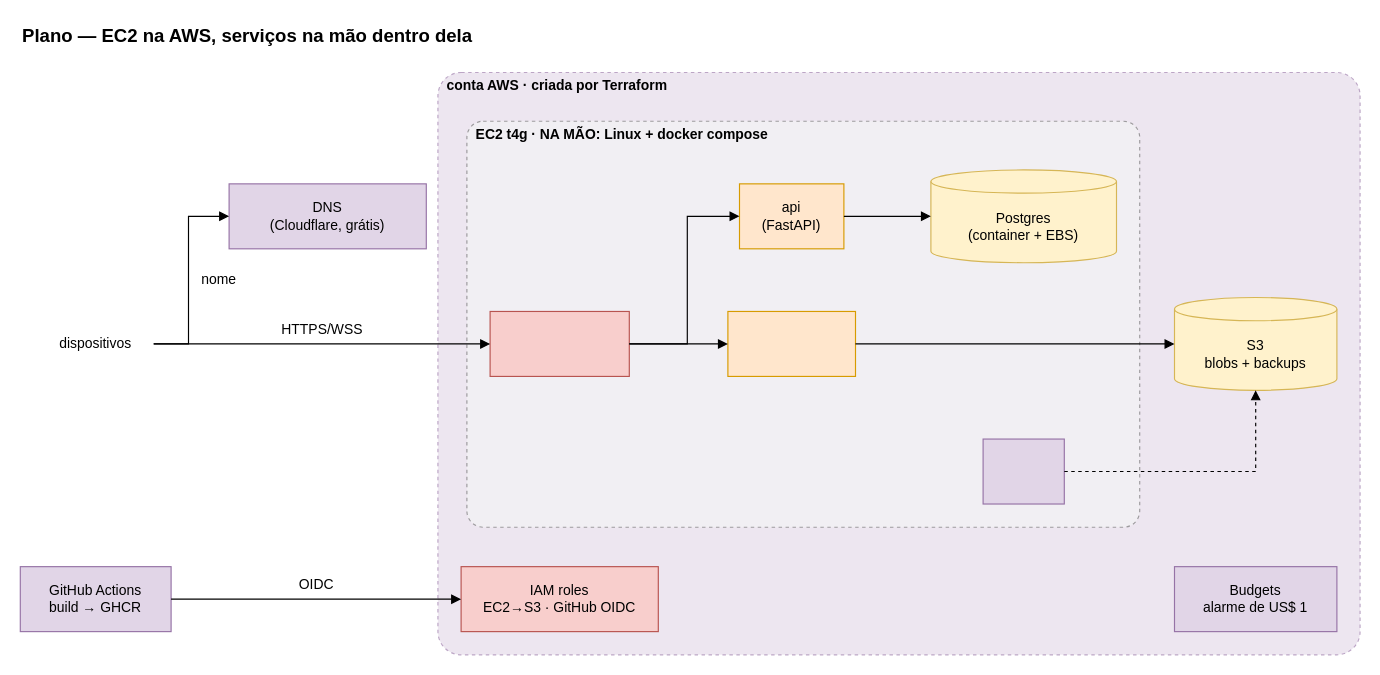
The diagram is 1380 pixels wide and 675 high, and some of its shapes have lost their labels. Each missing label, with the centre of its shape:
Caddy :443 Let's Encrypt: point (559, 343)
cron pg_dump: point (1023, 471)
sync (WebSocket): point (791, 343)
